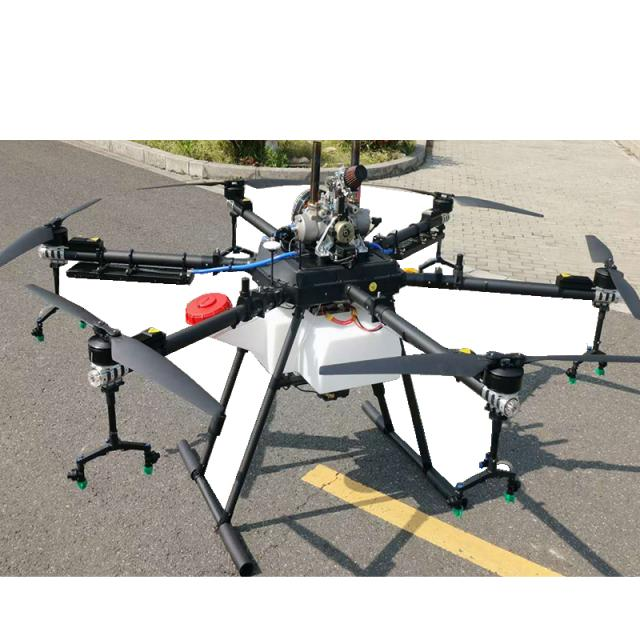drone: (4, 127, 640, 536)
